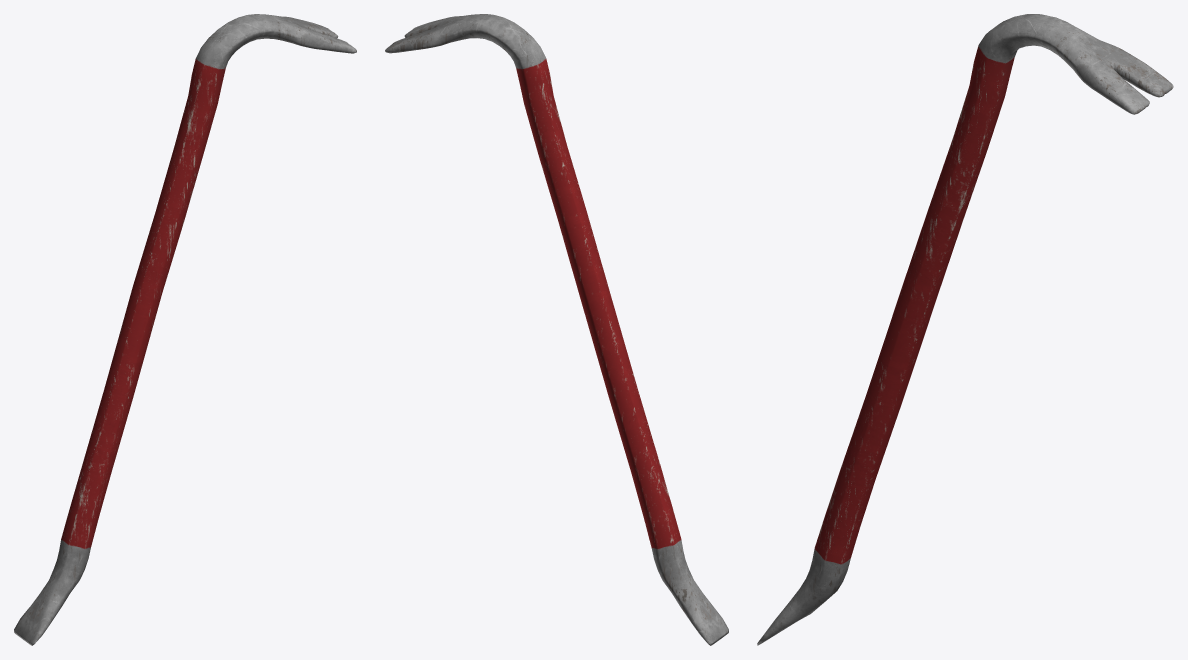
Rendered from crowbar.obj.
3 renders of one model, left to right at view 1: azimuth 30°, elevation 25°; view 2: azimuth 150°, elevation 25°; view 3: azimuth 330°, elevation 25°, orthographic. The views are drawn at different scales.
Visible parts, largest first — view 1: Crowbar; view 2: Crowbar; view 3: Crowbar.
Boxes of the visible parts, left/top/right/bottom form: Crowbar: left=14, top=14, right=356, bottom=645; Crowbar: left=385, top=14, right=728, bottom=645; Crowbar: left=757, top=14, right=1173, bottom=645.
Size of the model in its own units: 38.01 by 64.2 by 6.62.
